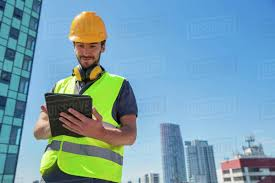Person_wearing_helmet: (67, 6, 111, 45)
